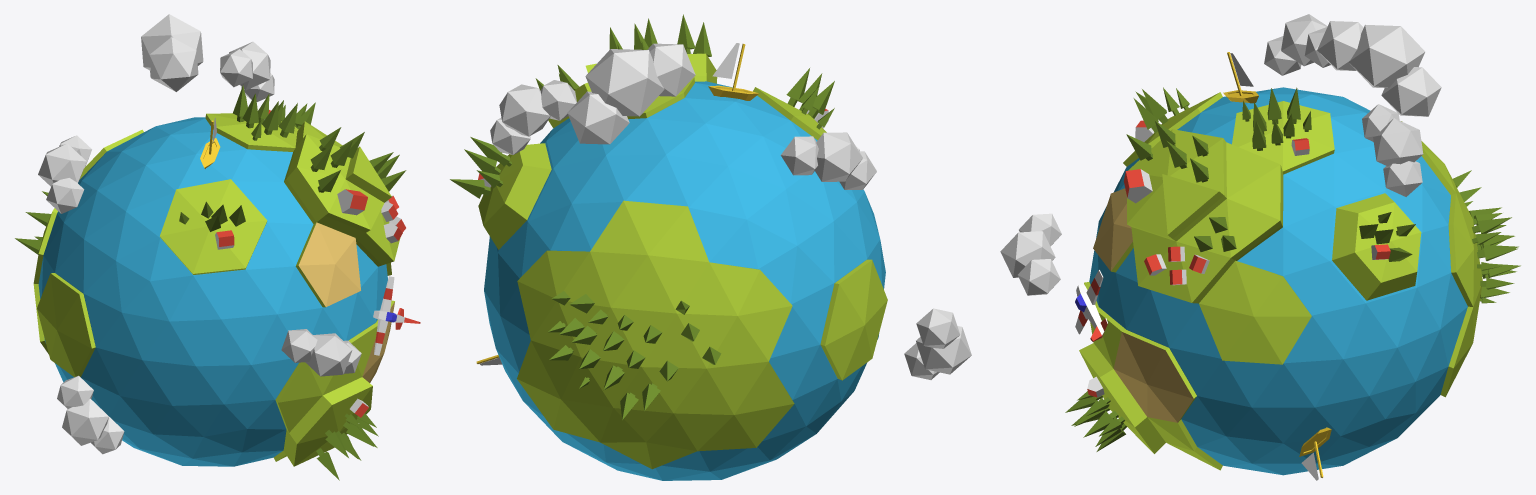
3 renders of one model, left to right at view 1: azimuth 30°, elevation 25°; view 2: azimuth 150°, elevation 25°; view 3: azimuth 270°, elevation 25°, orthographic. The views are drawn at different scales.
Visible parts, largest first — view 1: Icosphere001, Icosphere, Icosphere006, Icosphere005, Icosphere002, Icosphere003, Icosphere004, Plane005_1, Plane003_1; view 2: Icosphere, Icosphere001, Icosphere006, Icosphere004, Icosphere002, Icosphere005, Plane003_1; view 3: Icosphere001, Icosphere, Icosphere006, Icosphere004, Icosphere003, Icosphere002, Plane005_1, Plane003_1.
Part boxes in pixels (left/top/right/bottom): Icosphere001: left=38, top=117, right=387, bottom=466; Icosphere: left=33, top=113, right=400, bottom=466; Icosphere006: left=141, top=14, right=203, bottom=91; Icosphere005: left=57, top=375, right=124, bottom=454; Icosphere002: left=38, top=135, right=91, bottom=213; Icosphere003: left=281, top=329, right=361, bottom=376; Icosphere004: left=220, top=41, right=274, bottom=101; Plane005_1: left=373, top=276, right=404, bottom=355; Plane003_1: left=200, top=120, right=220, bottom=168; Icosphere: left=478, top=53, right=887, bottom=469; Icosphere001: left=484, top=81, right=885, bottom=480; Icosphere006: left=567, top=43, right=695, bottom=144; Icosphere004: left=490, top=80, right=576, bottom=154; Icosphere002: left=780, top=132, right=876, bottom=189; Icosphere005: left=904, top=308, right=971, bottom=379; Plane003_1: left=708, top=43, right=758, bottom=100; Icosphere001: left=1089, top=87, right=1467, bottom=475; Icosphere: left=1079, top=92, right=1482, bottom=470; Icosphere006: left=1317, top=21, right=1441, bottom=116; Icosphere004: left=1362, top=104, right=1423, bottom=196; Icosphere003: left=1000, top=213, right=1061, bottom=295; Icosphere002: left=1264, top=14, right=1330, bottom=75; Plane005_1: left=1075, top=270, right=1107, bottom=336; Plane003_1: left=1299, top=427, right=1331, bottom=477.
Size of the model in its own units: 239 by 251 by 273.
